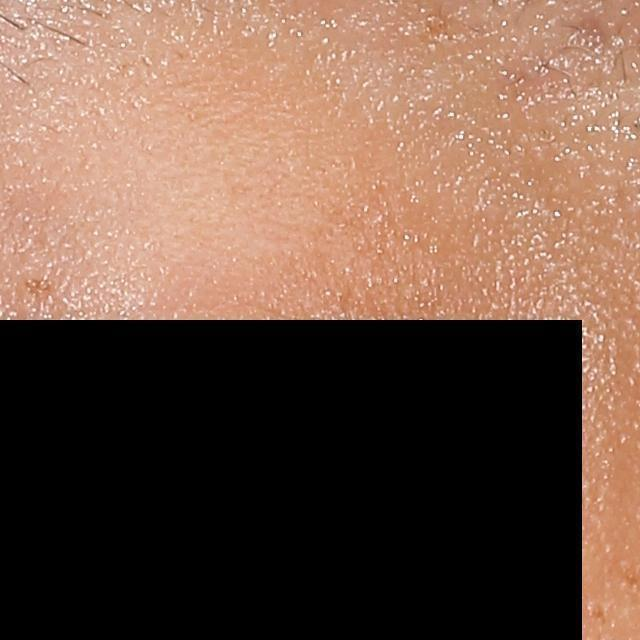melasma: (22, 276, 48, 301)
